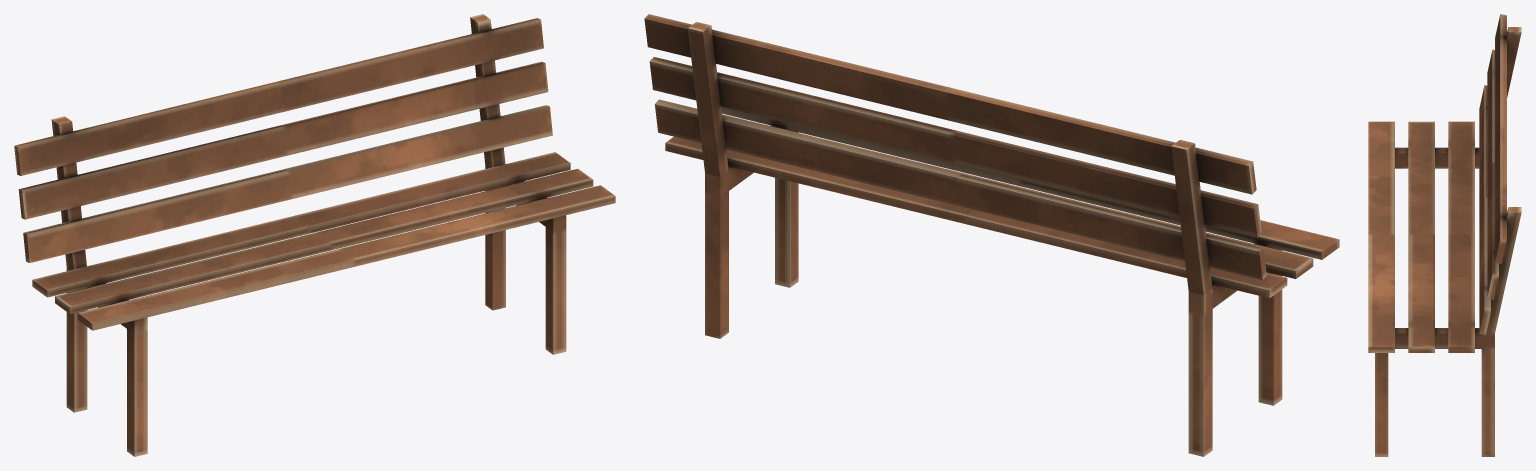
Rendered from Bench1.fbx.
3 views of the same model, side by side, from view 1: azimuth 30°, elevation 25°; view 2: azimuth 150°, elevation 25°; view 3: azimuth 270°, elevation 25° (orthographic). The views are drawn at different scales.
Visible parts, largest first — view 1: Bench1; view 2: Bench1; view 3: Bench1.
Part boxes in pixels (bbox=[...]): Bench1: bbox=[14, 14, 615, 456]; Bench1: bbox=[644, 14, 1339, 456]; Bench1: bbox=[1368, 14, 1521, 456].
Bounding box in the file's own units: 2 × 1.01 × 0.575.
